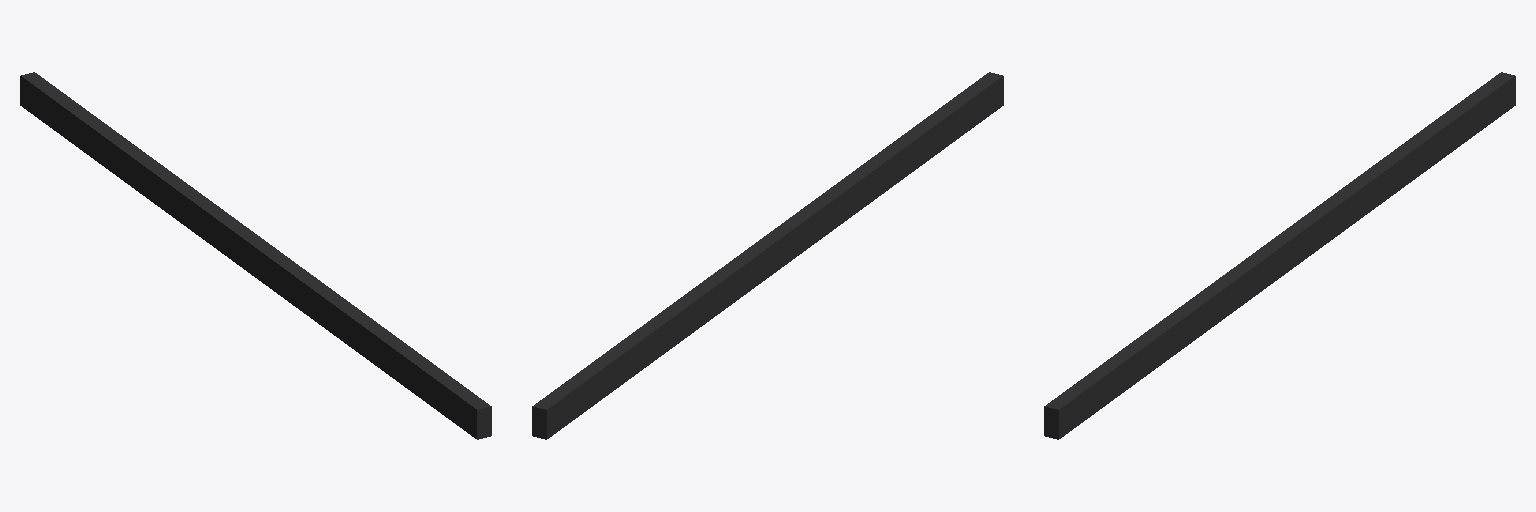
The robot description file, URDF, robot "wall":
<robot name="wall">
  <link name="baseLink">
   
    <inertial>
      <origin rpy="0 0 0" xyz="0 0 0" />
       <mass value="0" />
       <inertia ixx="0" ixy="0" ixz="0" iyy="0" iyz="0" izz="0" />
    </inertial>
    <visual>
      <origin rpy="0 0 0" xyz="0 0 0" />
      <geometry>
			  <box size="0.5 27.5 1" />
      </geometry>
       <material name="grey">
        <color rgba="0.24 0.24 0.24 1" />
      </material>
    </visual>
    <collision>
      <origin rpy="0 0 0" xyz="0 0 0" />
      <geometry>
	 	      <box size="0.5 27.5 1" />
      </geometry>
    </collision>
  </link>
</robot>

--- Render facts (derived) ---
Views: 3 orthographic renders of the robot side by side, from view 1: azimuth 30°, elevation 25°; view 2: azimuth 150°, elevation 25°; view 3: azimuth 330°, elevation 25°.
Robot: wall — 1 links, 0 joints (none); root link baseLink; default pose: all joints at 0.
Links seen in each view (by area): view 1: baseLink; view 2: baseLink; view 3: baseLink.
Link boxes in pixels (x1,y1,x2,y2): baseLink: [20, 72, 491, 439]; baseLink: [532, 72, 1003, 439]; baseLink: [1044, 72, 1515, 439].
Size in the robot's own frame: 0.5 by 27.5 by 1 metres.
Geometry: primitives only (box / cylinder / sphere), no mesh files.
